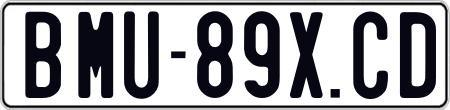8: (195, 11, 237, 101)
9: (243, 8, 283, 98)
B: (25, 12, 61, 100)
C: (352, 12, 393, 104)
D: (398, 10, 435, 96)
M: (78, 10, 113, 98)
U: (122, 10, 161, 104)
X: (289, 12, 323, 101)
